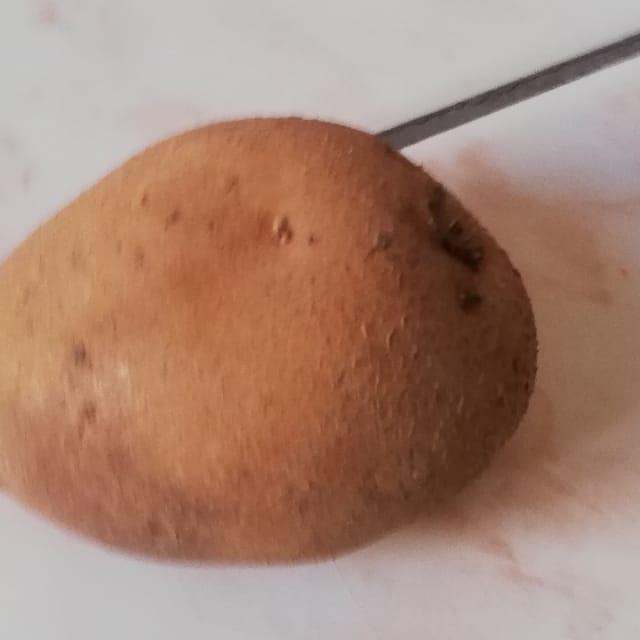potato: (0, 85, 562, 582)
